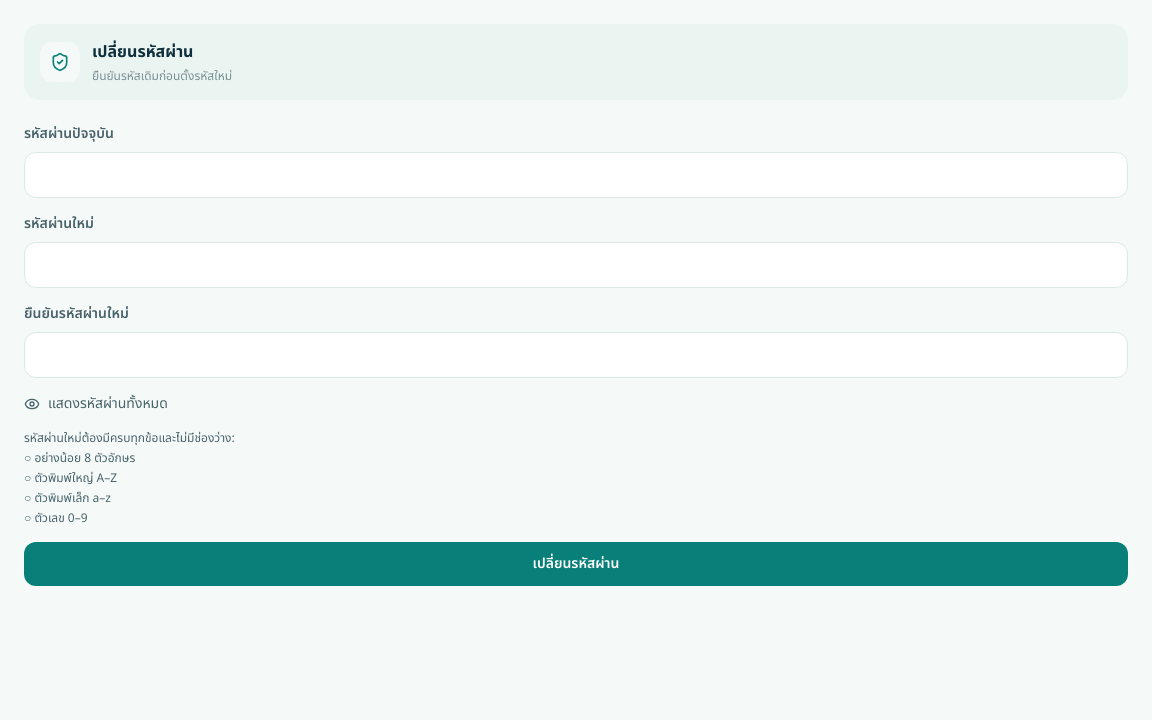
Scenario: profile password security › verifies the current password before changing it
Type "oldpassword" into the password field labelled "รหัสผ่านปัจจุบัน" at (576,175), box [24, 152, 1128, 198]
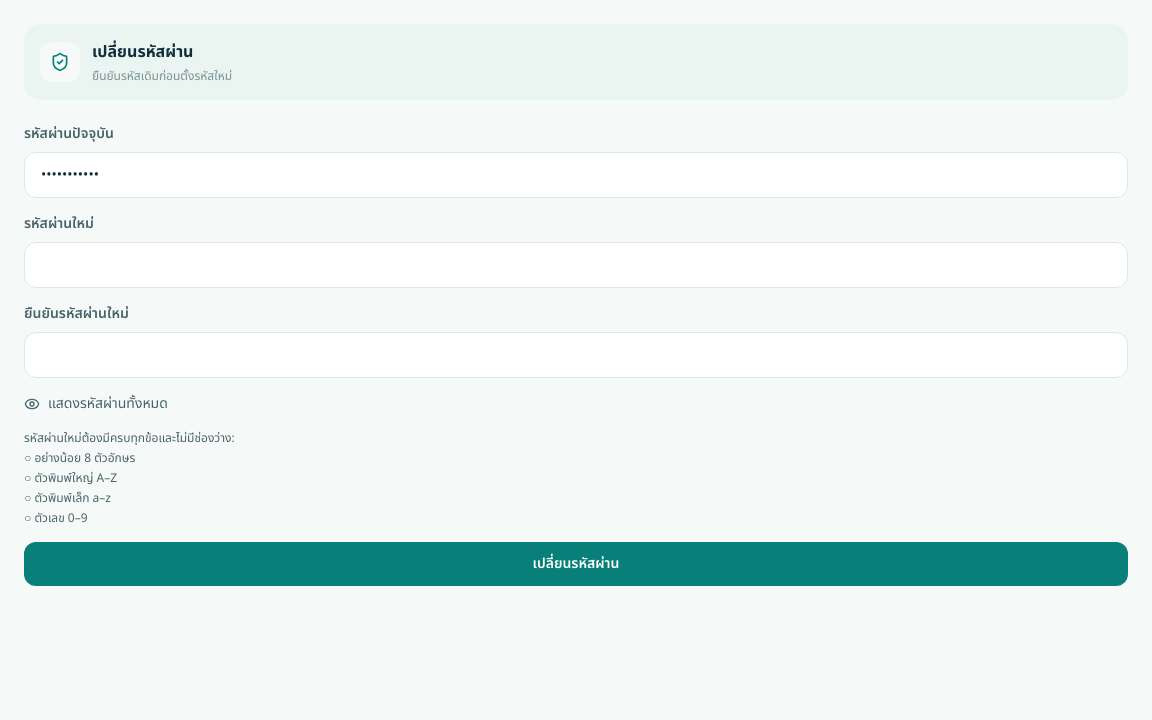
Type "Newpassword1" into the password field labelled "รหัสผ่านใหม่" at (576,265), box [24, 242, 1128, 288]
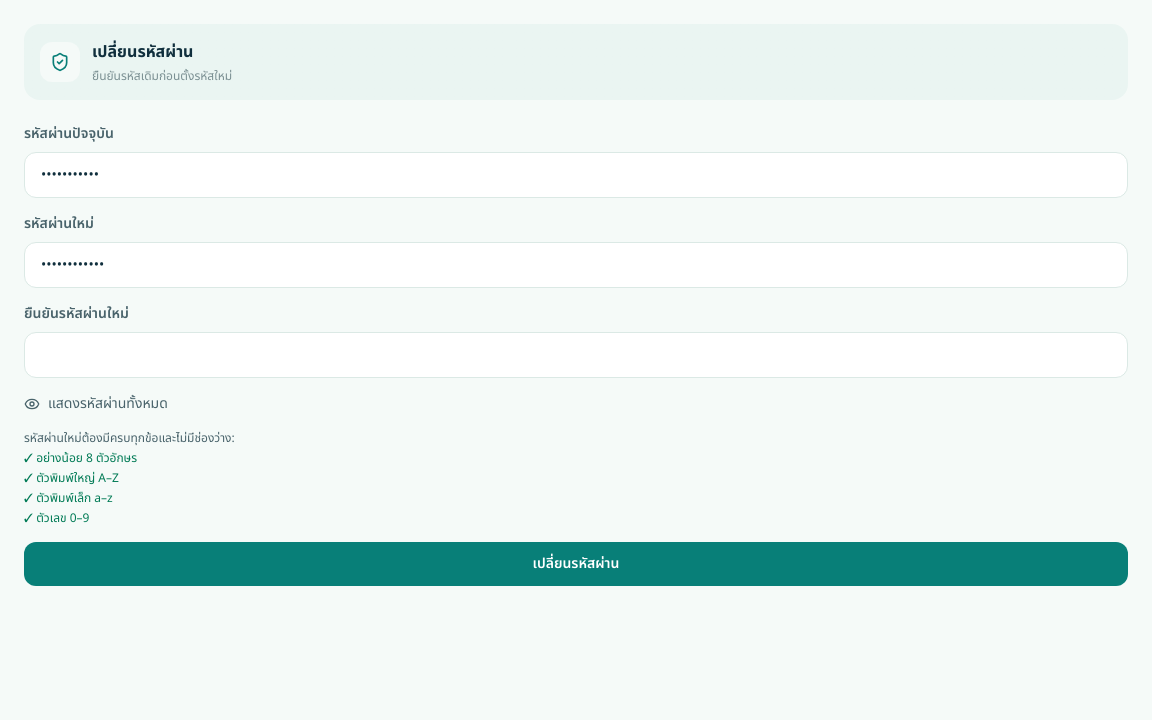
Type "Newpassword1" into the password field labelled "ยืนยันรหัสผ่านใหม่" at (576,355), box [24, 332, 1128, 378]
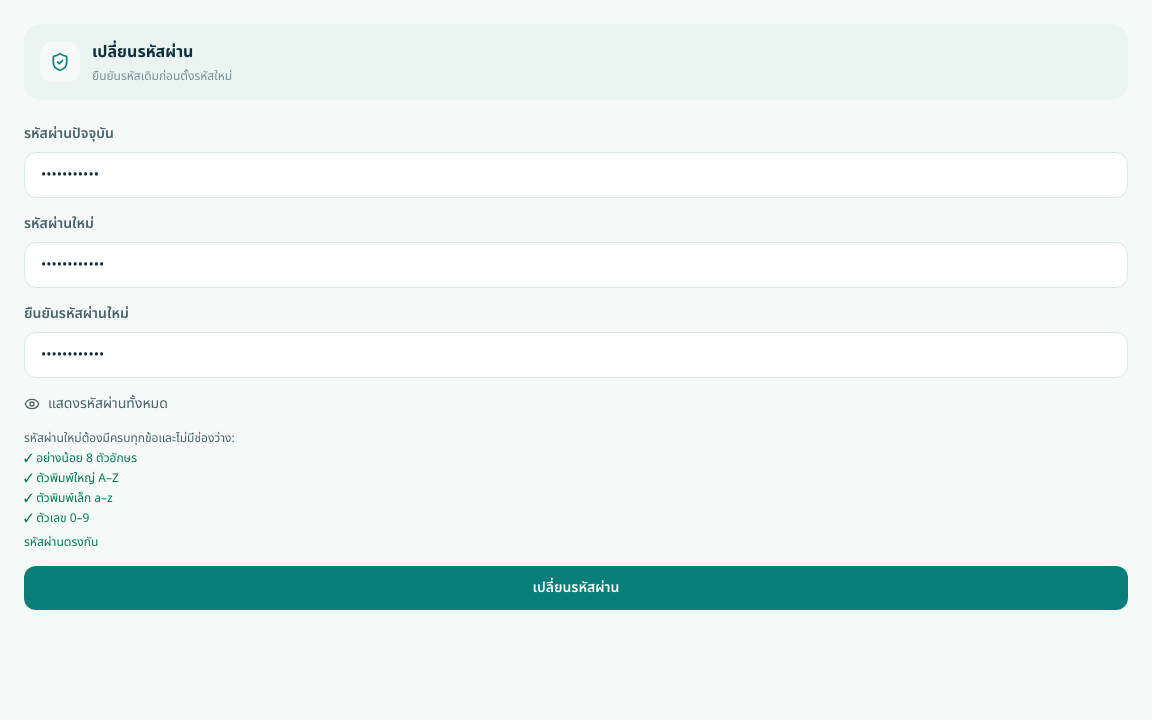
Click the button "เปลี่ยนรหัสผ่าน" at (576,588), box [24, 566, 1128, 610]
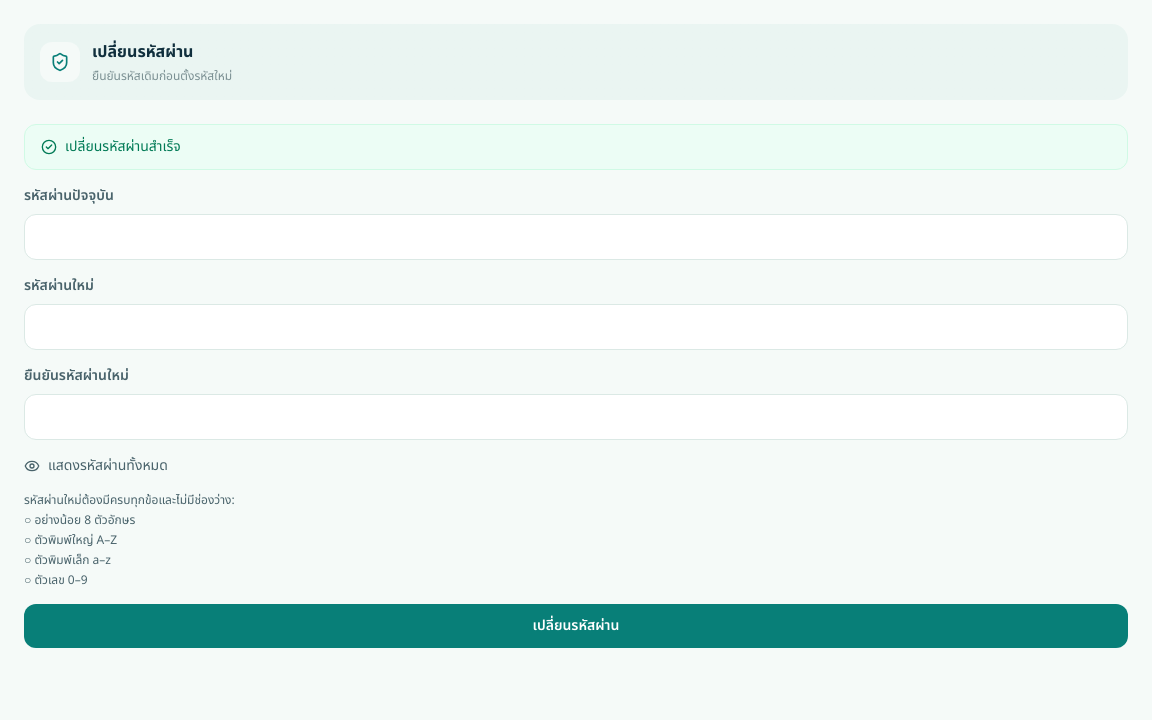
Expected: the message reads "เปลี่ยนรหัสผ่านสำเร็จ", [65, 136, 181, 157]
